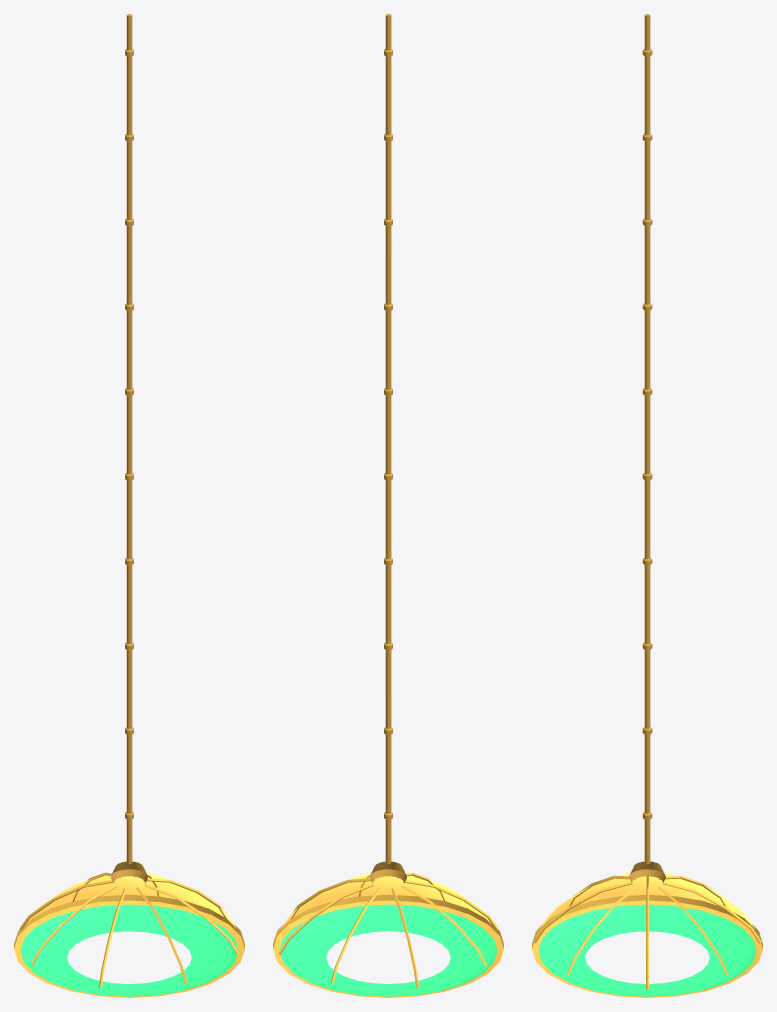
File: lb4_pendant.glb
The picture shows the model from 3 angles, left to right: view 1: azimuth 30°, elevation 25°; view 2: azimuth 150°, elevation 25°; view 3: azimuth 270°, elevation 25°; orthographic projection.
Visible parts, largest first — view 1: lb4_pendant; view 2: lb4_pendant; view 3: lb4_pendant.
Part boxes in pixels (x1,y1,x2,y2): lb4_pendant: [14, 14, 244, 997]; lb4_pendant: [273, 14, 503, 997]; lb4_pendant: [532, 14, 762, 997].
Size of the model in its own units: 1.48 by 6.67 by 1.48.
